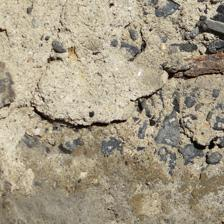Crack: (19, 40, 151, 93)
